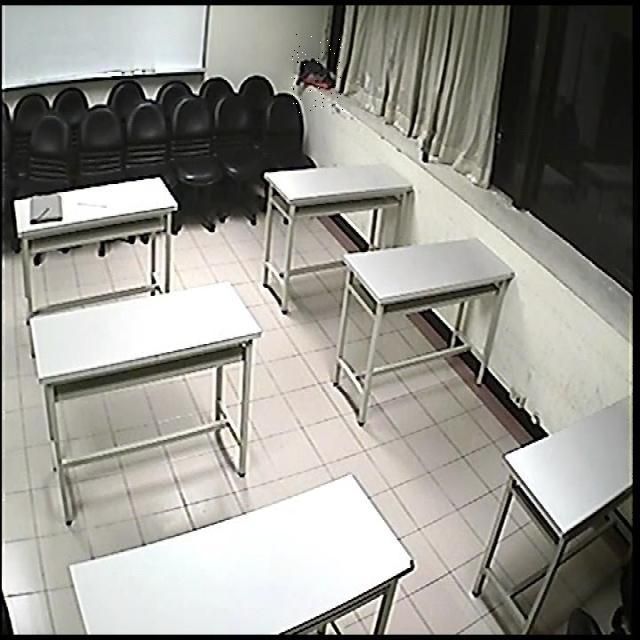abandoned-object: (290, 34, 344, 114)
